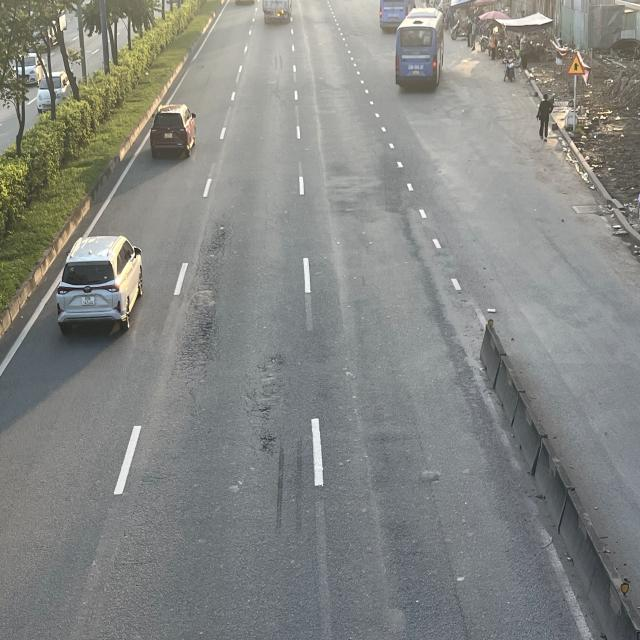car: (54, 235, 144, 340), (148, 106, 196, 162)
coach: (398, 7, 447, 87), (378, 1, 414, 32)
